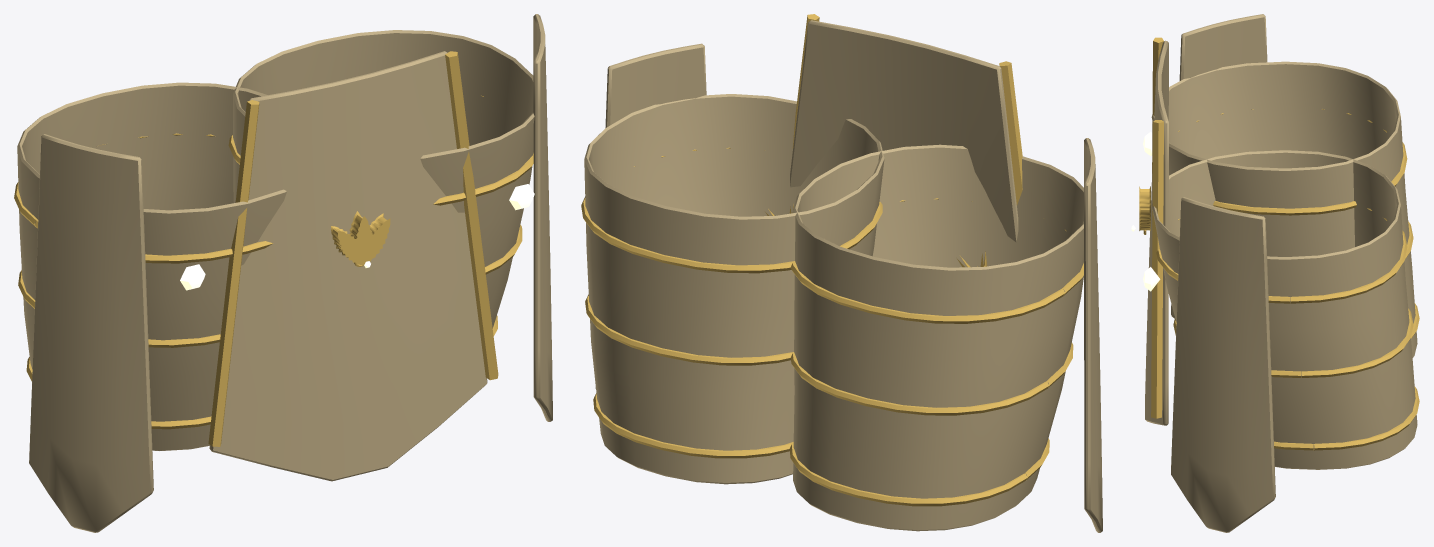
Rendered from asc_cantor_of_dawn_leggings.glb.
3 renders of one model, left to right at view 1: azimuth 30°, elevation 25°; view 2: azimuth 150°, elevation 25°; view 3: azimuth 270°, elevation 25°, orthographic. The views are drawn at different scales.
Visible parts, largest first — view 1: asc_cantor_of_dawn_leggings, AT_thigh_R, AT_thigh_L; view 2: AT_thigh_R, AT_thigh_L, asc_cantor_of_dawn_leggings; view 3: AT_thigh_L, AT_thigh_R, asc_cantor_of_dawn_leggings.
Part boxes in pixels (<box>): asc_cantor_of_dawn_leggings: <box>208,51,498,481</box>; AT_thigh_R: <box>14,82,286,532</box>; AT_thigh_L: <box>228,14,552,421</box>; AT_thigh_R: <box>789,138,1102,532</box>; AT_thigh_L: <box>581,43,884,484</box>; asc_cantor_of_dawn_leggings: <box>765,14,1022,267</box>; AT_thigh_L: <box>1143,150,1419,532</box>; AT_thigh_R: <box>1143,14,1419,357</box>; asc_cantor_of_dawn_leggings: <box>1131,37,1168,425</box>.
Size of the model in its own units: 0.5162 by 0.4068 by 0.2994.
